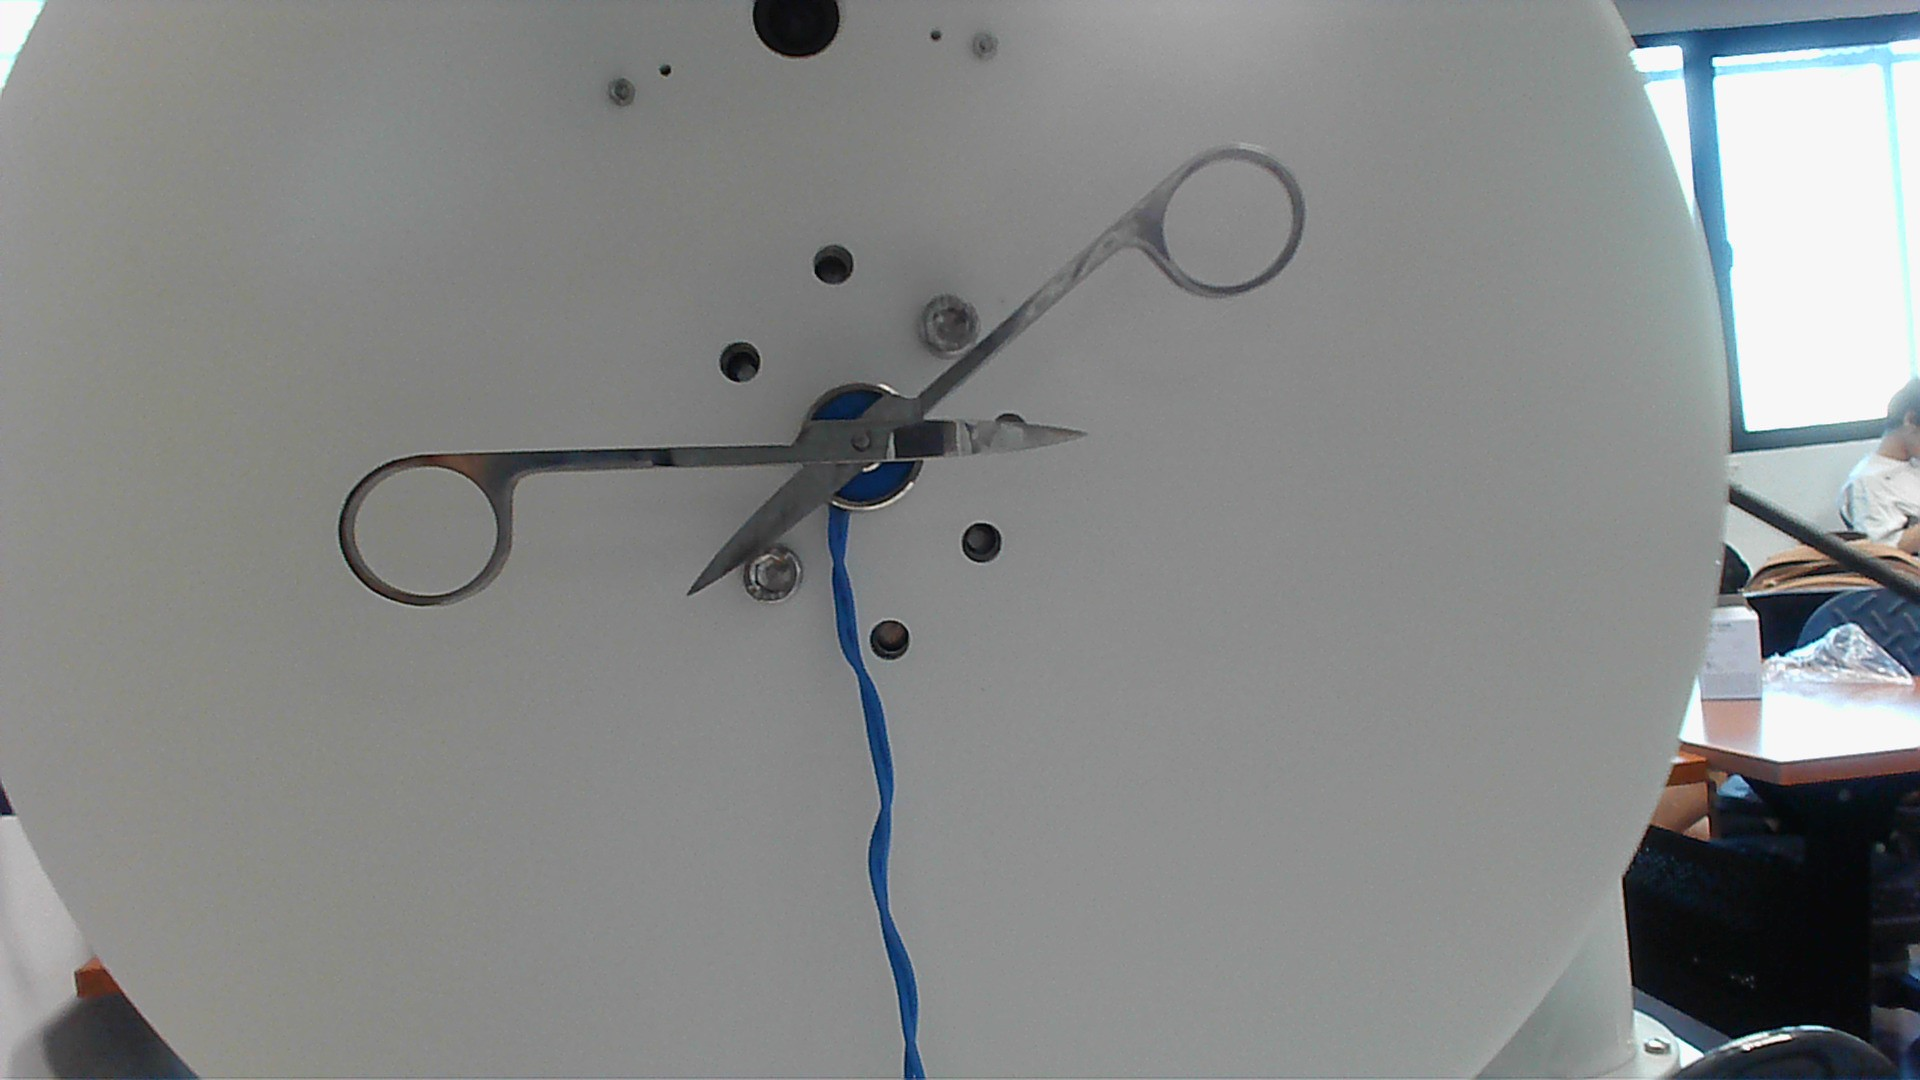Tissues: (953, 419, 1015, 455)
